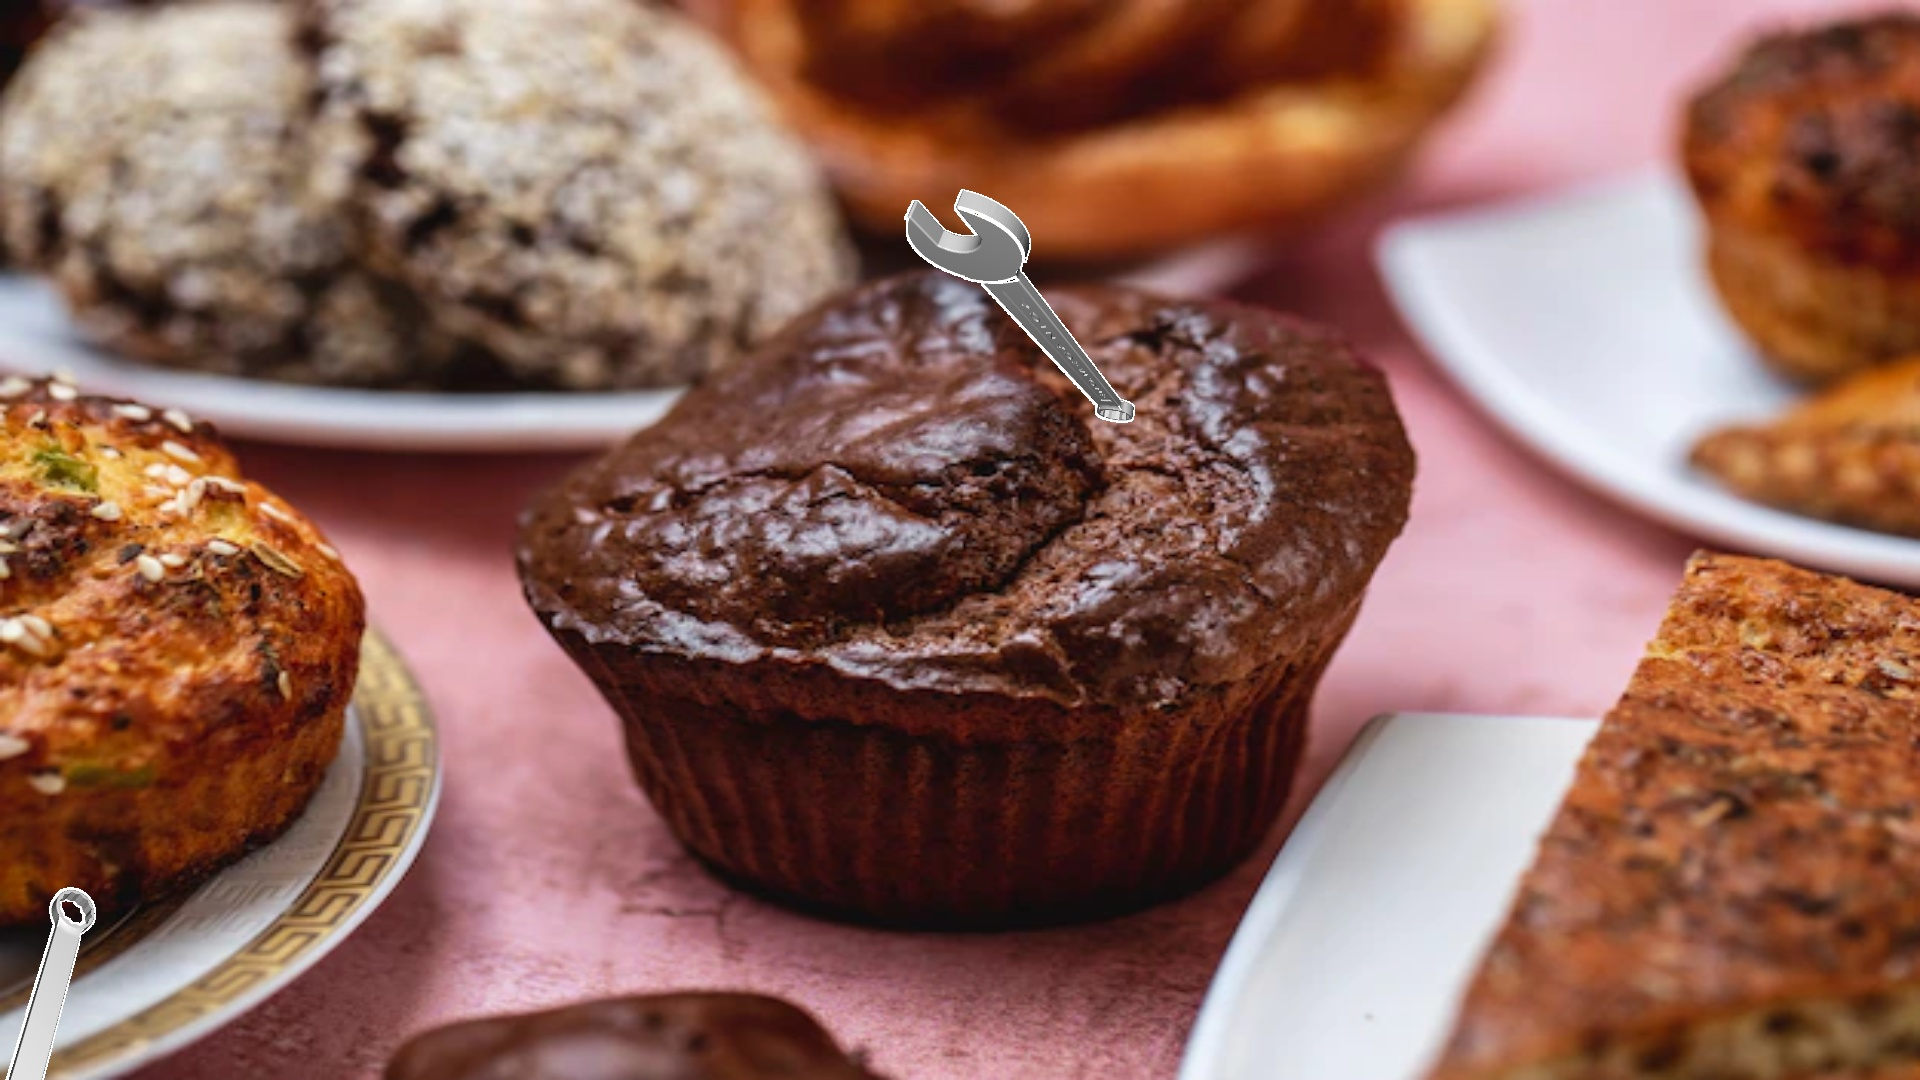Mixed Key: (905, 189, 1134, 422), (5, 887, 95, 1079)
